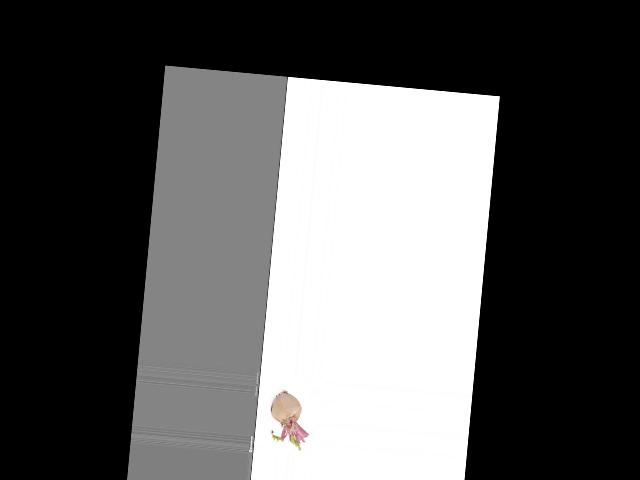beet: (267, 388, 312, 451)
